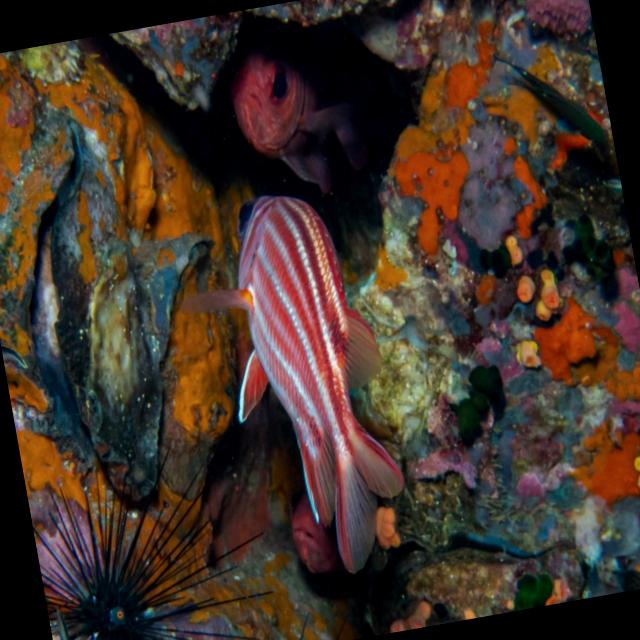Asker Baligi: (150, 143, 440, 596)
